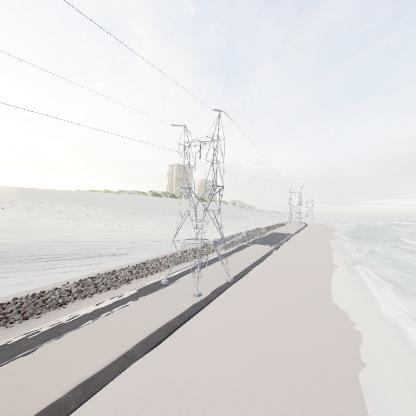tower: (160, 104, 231, 302), (285, 186, 304, 223)
